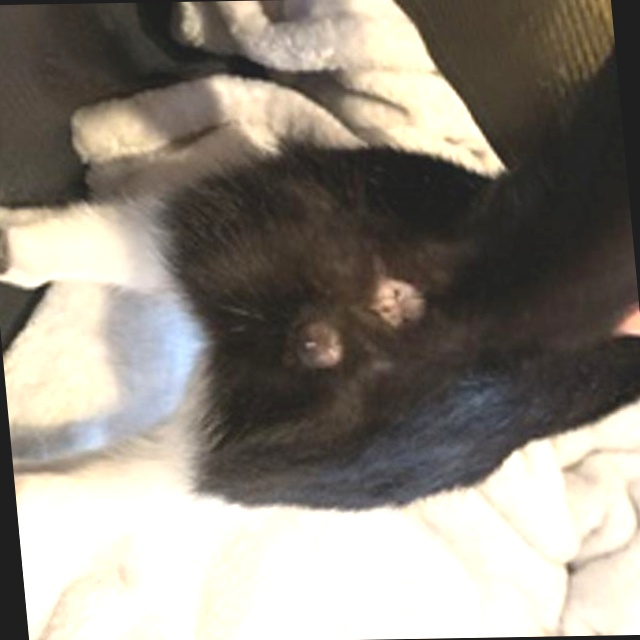lump_and_bump: (369, 283, 425, 325), (300, 326, 346, 366)
